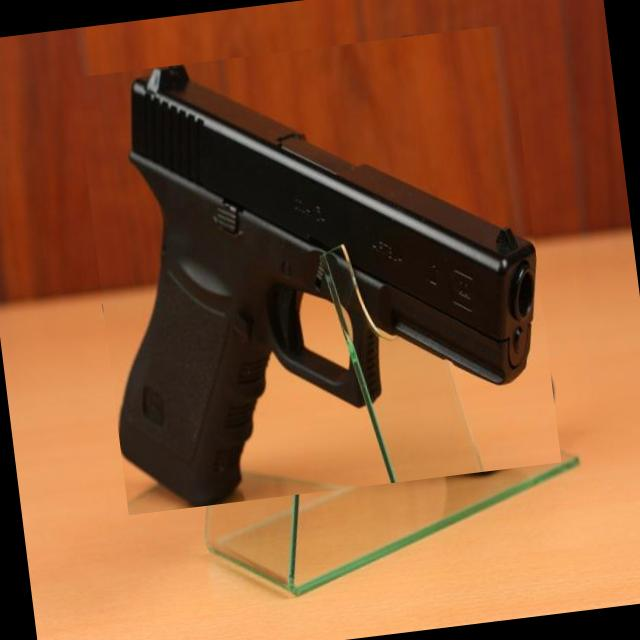Gun: (119, 65, 536, 506)
